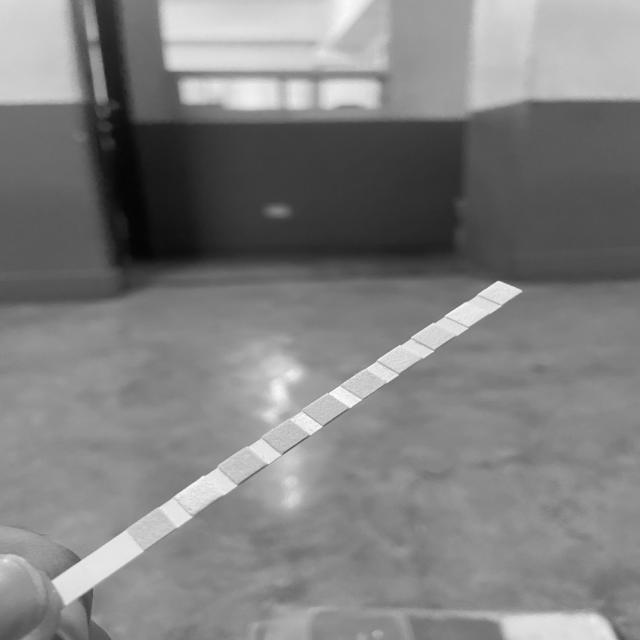Bilirubin: (186, 486, 210, 504)
Blood: (315, 401, 337, 416)
Glucose: (141, 518, 164, 536)
Ketone: (231, 456, 254, 474)
Leukocytes: (490, 286, 510, 299)
Nitrite: (457, 307, 477, 323)
Protein: (389, 351, 410, 367)
SpGravity: (275, 427, 297, 445)
Urobilinogen: (425, 329, 444, 343)
background: (0, 0, 640, 640)
pH: (353, 377, 373, 392)
strip: (52, 281, 524, 604)
